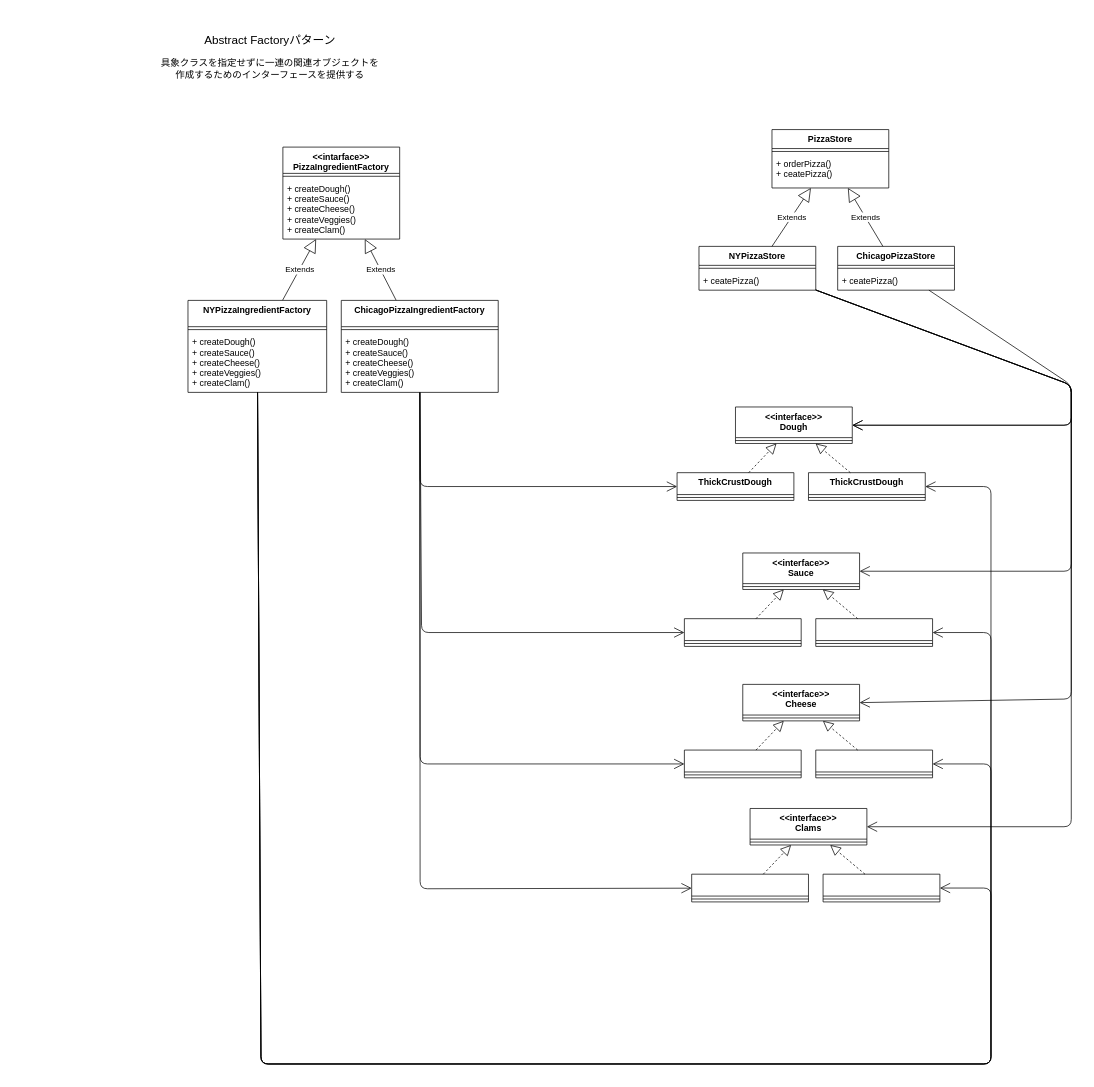
The diagram is 1094 pixels wide and 1087 high, and some of its shapes have lost their labels. Here are the shapes that lost their labels. From the top down, the centre of each, then its label:
At point (742, 632): "PlumTomatoSauce".
At point (874, 632): "MarinaraSauce".
At point (742, 763): "MozzarellaCheese".
At point (874, 763): "ReggianoCheese".
At point (749, 887): "FrozenClams".
At point (881, 887): "FreshClams".
